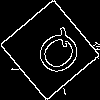Q: (25, 24, 88, 86)
